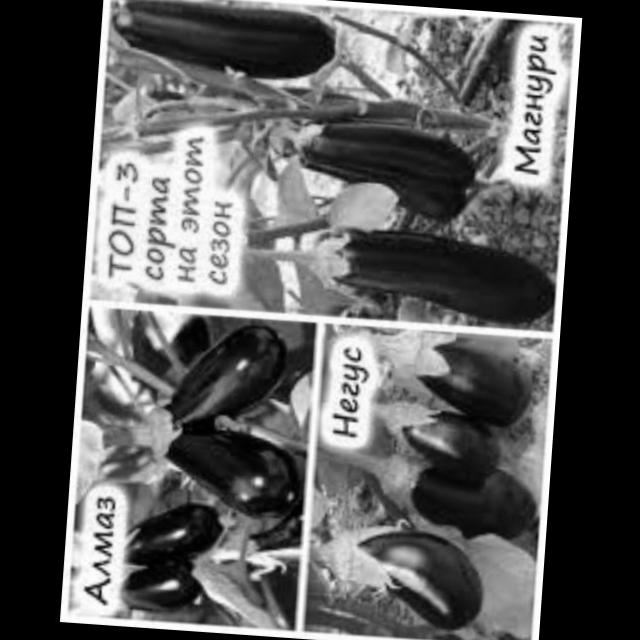eggplant: (240, 206, 558, 327), (239, 84, 509, 212), (95, 0, 380, 116), (146, 316, 296, 458), (308, 512, 485, 626), (348, 444, 540, 538), (366, 374, 532, 481), (386, 316, 550, 420), (162, 419, 305, 522), (118, 492, 214, 582), (100, 560, 202, 624)
